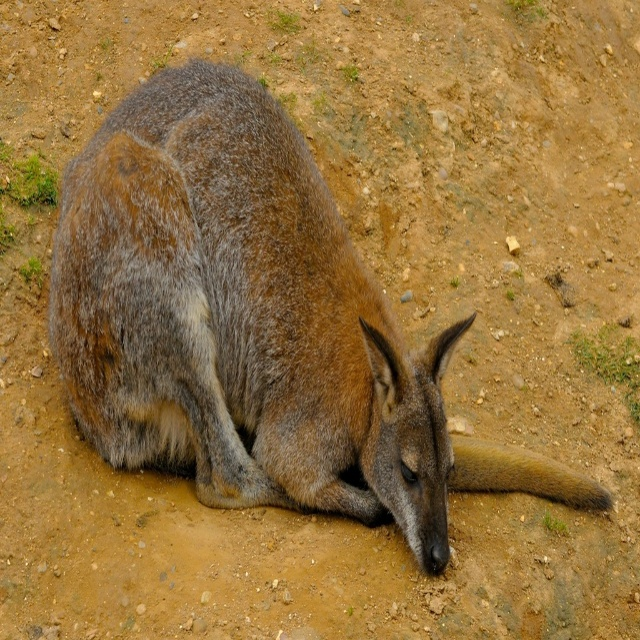Kangaroo: (52, 52, 611, 577)
